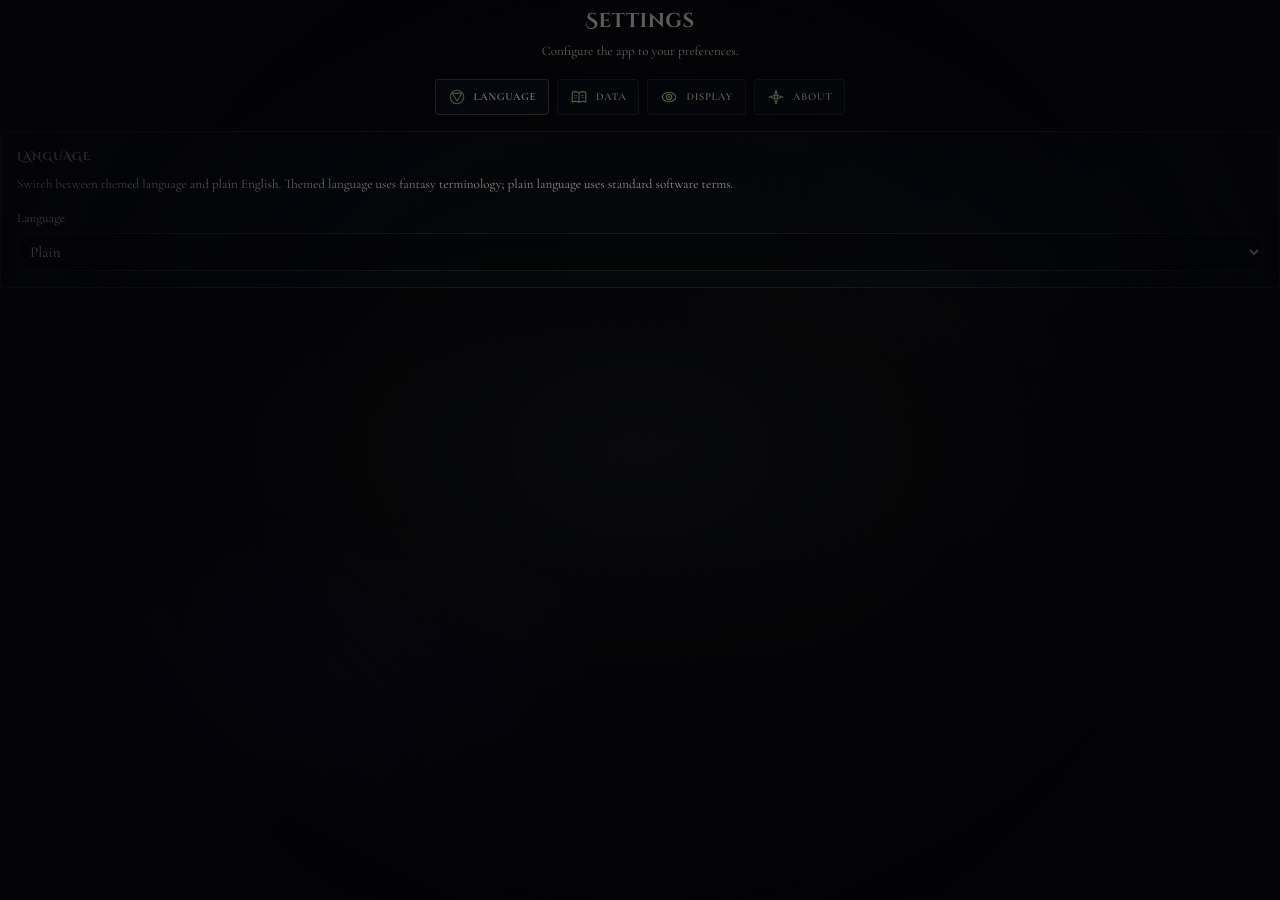
it: SettingsView › shows the export descriptions and import UI in the Data section
Click the button "Data". click: click(598, 97)
box: x1=557 y1=79 x2=640 y2=115
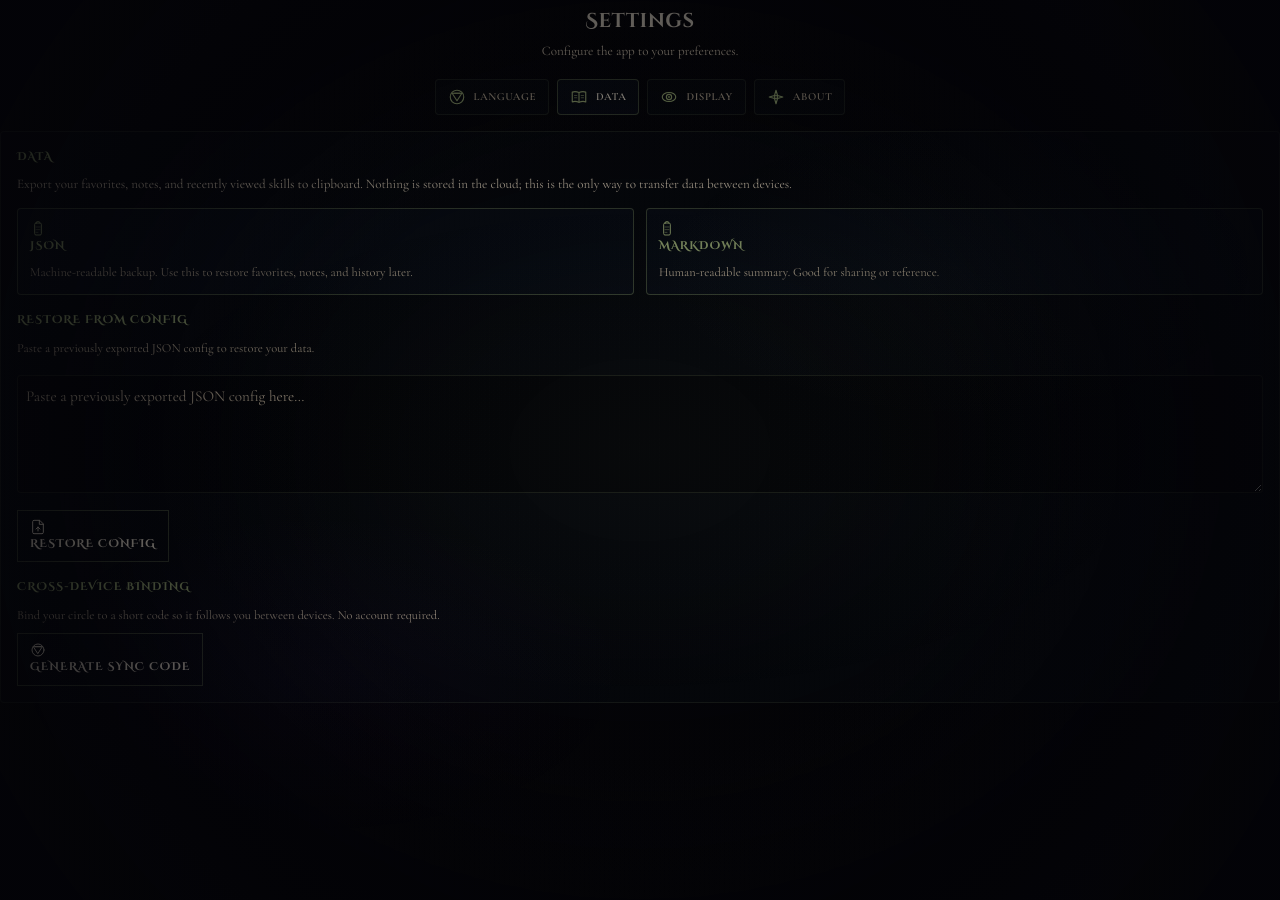
Check: the text "Machine-readable backup" is shown, box x1=30 y1=264 x2=413 y2=280
Check: the text "Human-readable summary. Good for sharing or reference." is shown, box x1=659 y1=264 x2=939 y2=280
Check: the heading "Restore from config" is shown, box x1=17 y1=311 x2=188 y2=330
